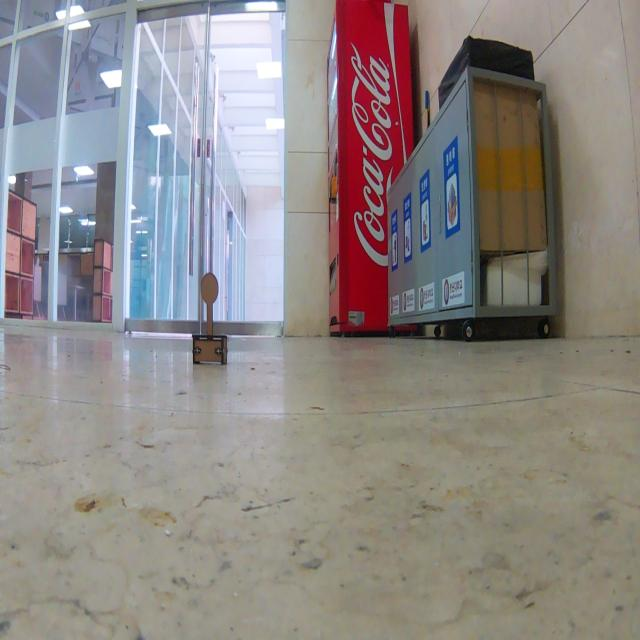target: (193, 271, 228, 365)
